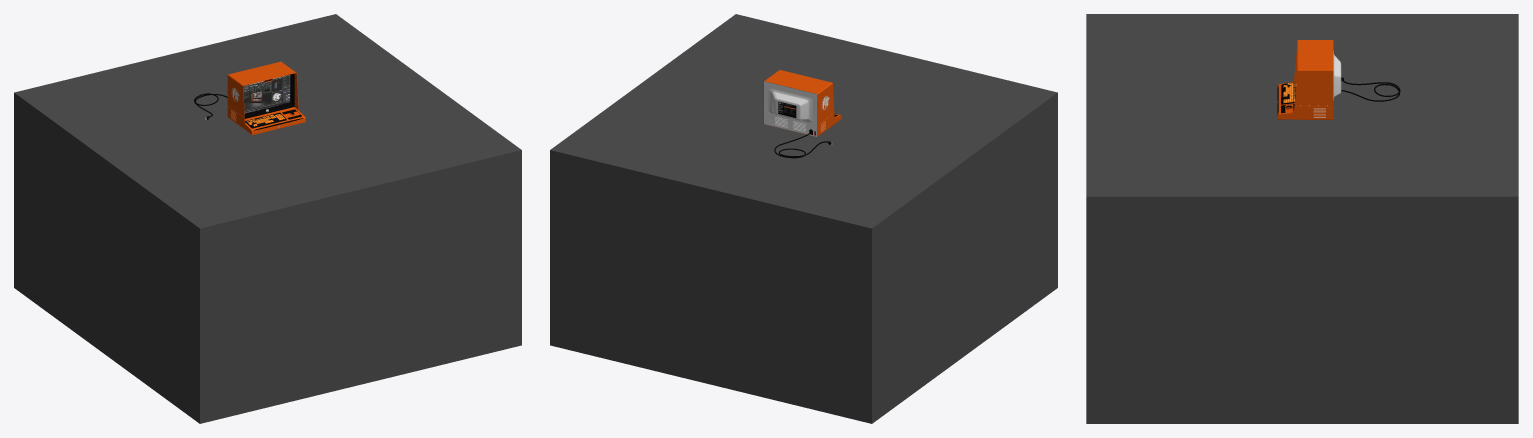
The picture shows the model from 3 angles, left to right: view 1: azimuth 30°, elevation 25°; view 2: azimuth 150°, elevation 25°; view 3: azimuth 270°, elevation 25°; orthographic projection. The views are drawn at different scales.
Parts seen in each view (by area): view 1: floor_0, cover_top_3, screen_9, cover_bottom_4; view 2: floor_0, cover_rear_8, cover_top_3; view 3: floor_0, cover_top_3, cover_bottom_4.
Part boxes in pixels (<box>): floor_0: <box>14,14,521,423</box>; cover_top_3: <box>227,61,298,117</box>; screen_9: <box>243,75,290,113</box>; cover_bottom_4: <box>227,101,305,135</box>; floor_0: <box>550,14,1057,423</box>; cover_rear_8: <box>764,81,817,136</box>; cover_top_3: <box>763,70,834,125</box>; floor_0: <box>1086,14,1518,423</box>; cover_top_3: <box>1294,40,1333,106</box>; cover_bottom_4: <box>1277,74,1333,119</box>.
Bounding box in the file's own units: 40.49 × 28.71 × 40.49.
16 materials, 6 textured.
